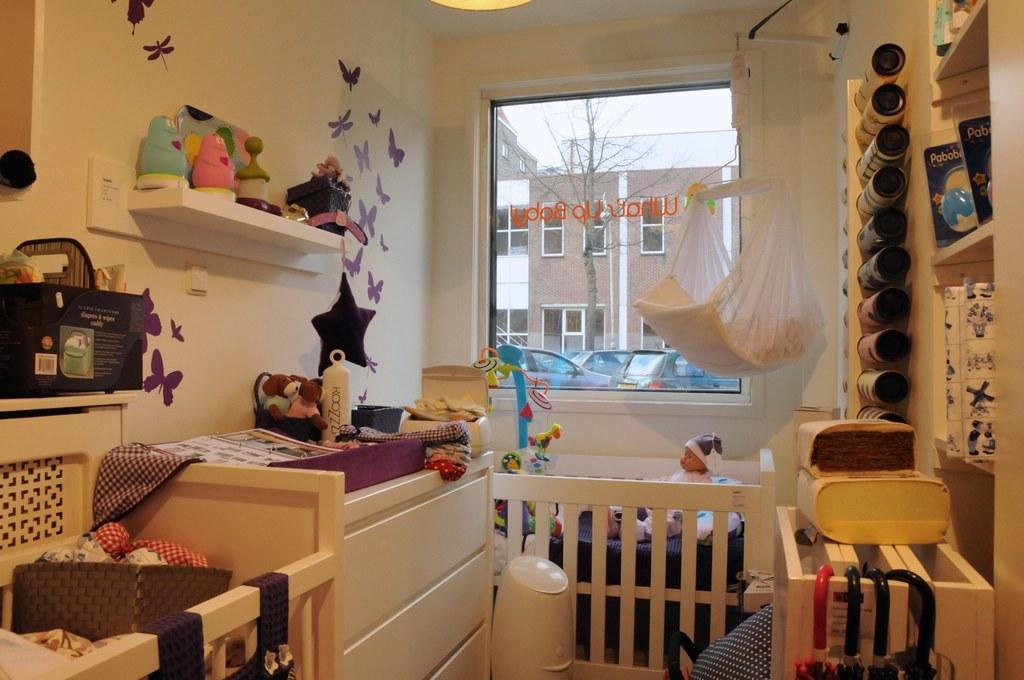cabinet door: (354, 569, 482, 659), (340, 504, 493, 569), (424, 638, 482, 677)
handle: (335, 559, 482, 626), (345, 464, 490, 515), (410, 638, 476, 671)
